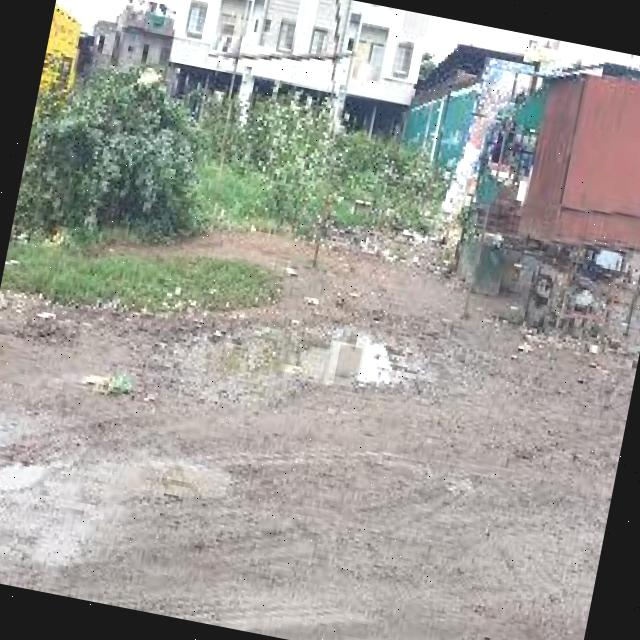stagnation: (280, 316, 399, 401)
